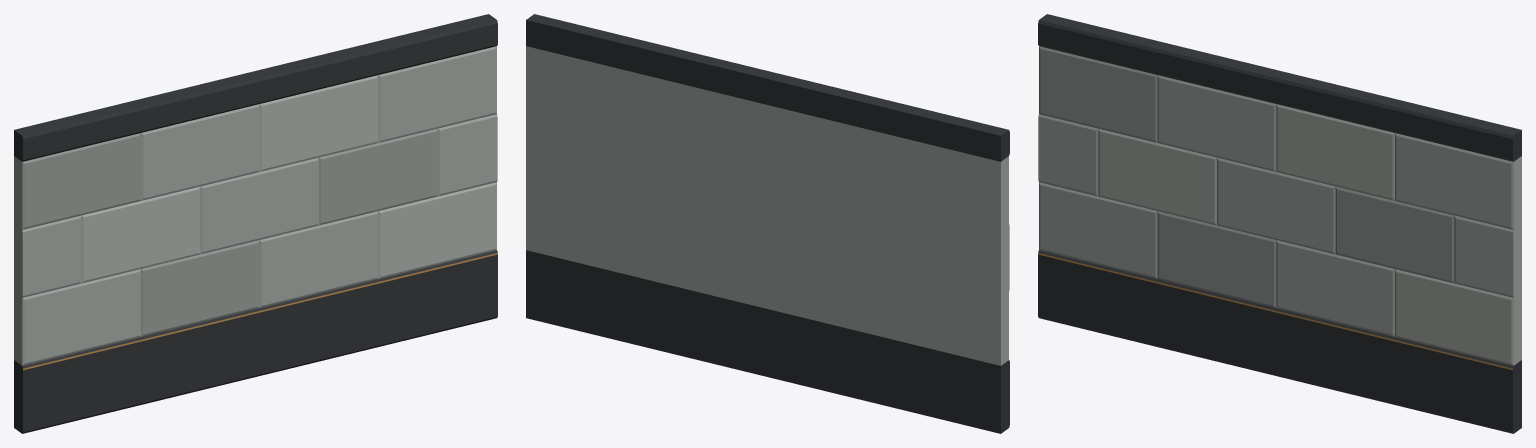
Rendered from Wall_Interior_Ground_01.glb.
3 views of the same model, side by side, from view 1: azimuth 30°, elevation 25°; view 2: azimuth 150°, elevation 25°; view 3: azimuth 330°, elevation 25° (orthographic).
Visible parts, largest first — view 1: SM_Env_Wall_Interior_Ground_01; view 2: SM_Env_Wall_Interior_Ground_01; view 3: SM_Env_Wall_Interior_Ground_01.
Boxes of the visible parts, x1,y1,x2,y2 form: SM_Env_Wall_Interior_Ground_01: [14, 14, 497, 433]; SM_Env_Wall_Interior_Ground_01: [526, 14, 1009, 433]; SM_Env_Wall_Interior_Ground_01: [1038, 14, 1521, 433].
Bounding box in the file's own units: 5 × 3 × 0.1636.
1 material, 1 textured.
